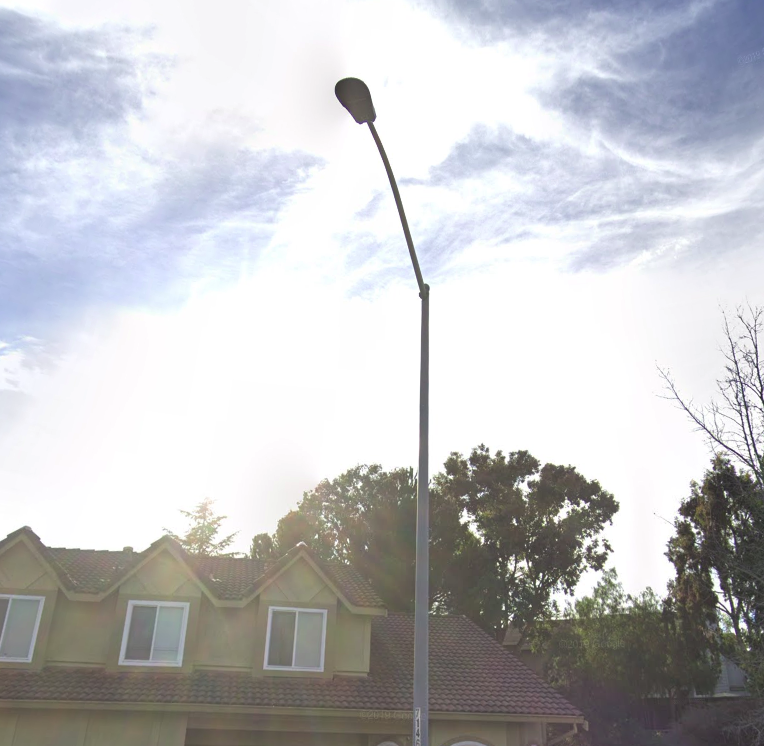pole: (323, 69, 446, 436)
